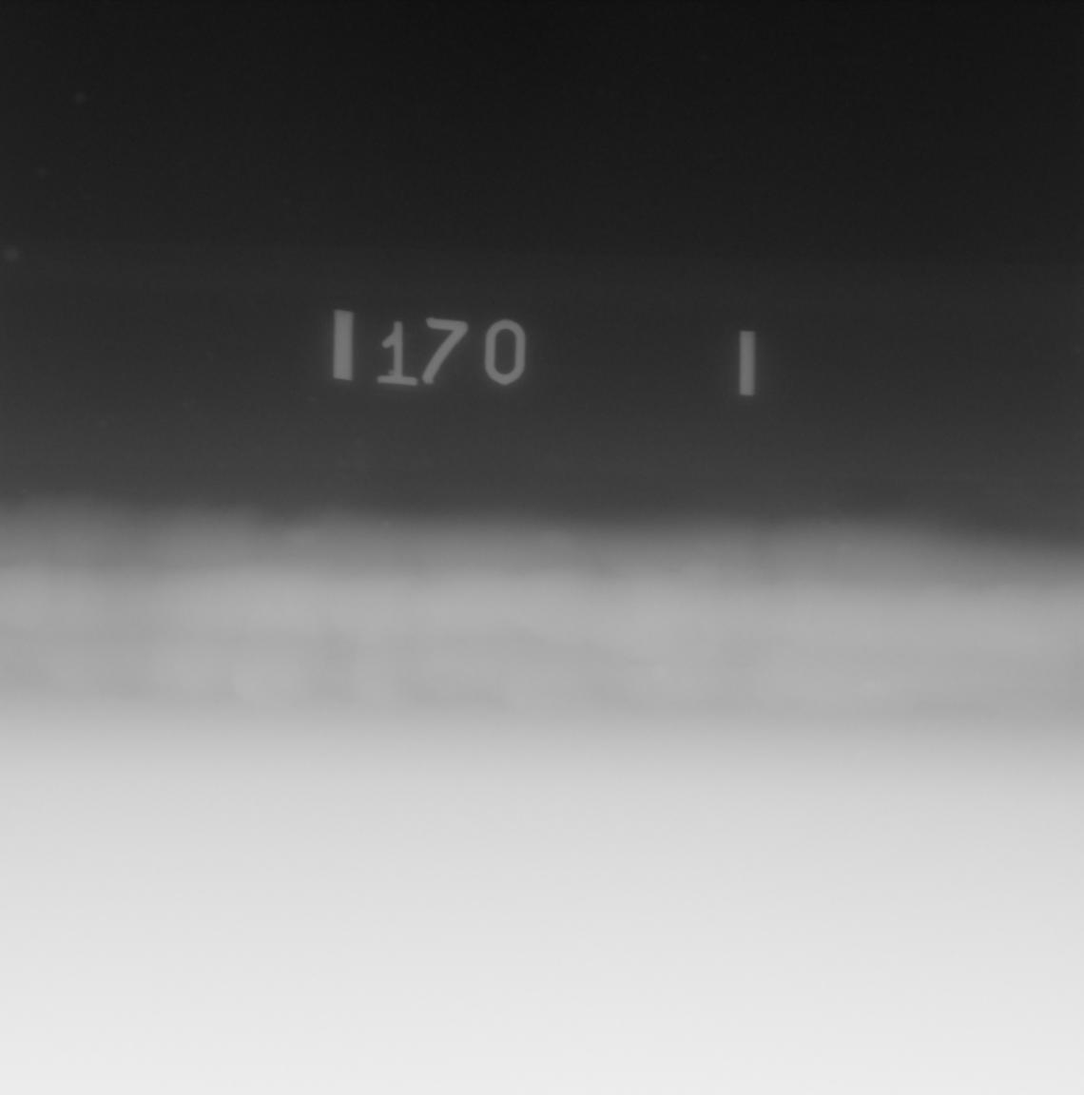Inclusion: (632, 661, 656, 665), (662, 570, 681, 572)
